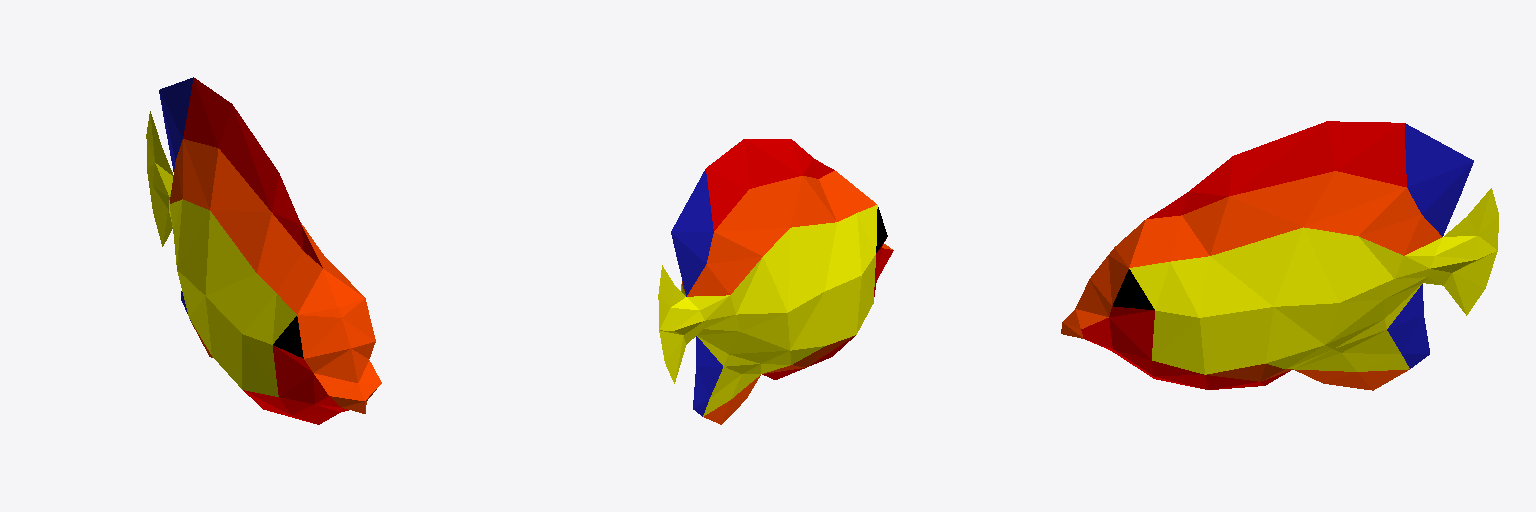
Rendered from fishC_colorMap.obj.
The picture shows the model from 3 angles: view 1: azimuth 30°, elevation 25°; view 2: azimuth 150°, elevation 25°; view 3: azimuth 270°, elevation 25°; orthographic projection.
Size of the model in its own units: 21.83 by 52.36 by 77.2.